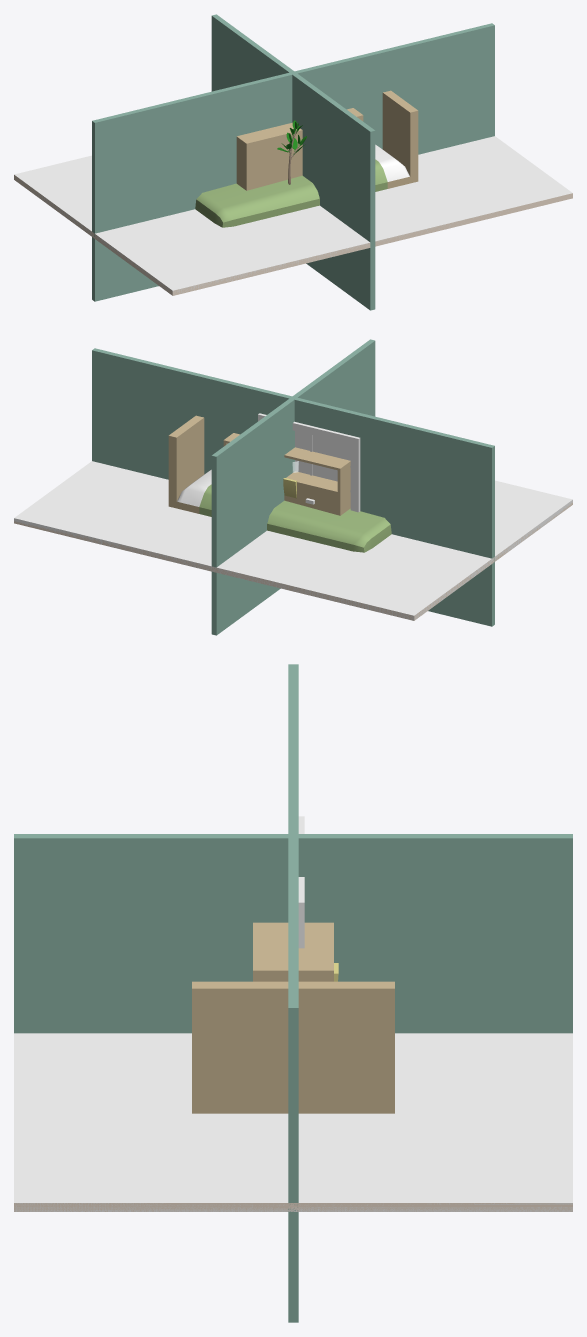
The model's file is bedroom-4b7d4f.glb.
3 renders of one model, top to bottom at view 1: azimuth 30°, elevation 25°; view 2: azimuth 150°, elevation 25°; view 3: azimuth 270°, elevation 25°, orthographic. The views are drawn at different scales.
Visible parts, largest first — view 1: PropMesh; view 2: PropMesh; view 3: PropMesh.
Part boxes in pixels (x1,y1,x2,y2): PropMesh: (14, 14, 572, 310); PropMesh: (14, 339, 572, 635); PropMesh: (14, 664, 572, 1322).
Bounding box in the file's own units: 5.15 × 2.2 × 3.54.
